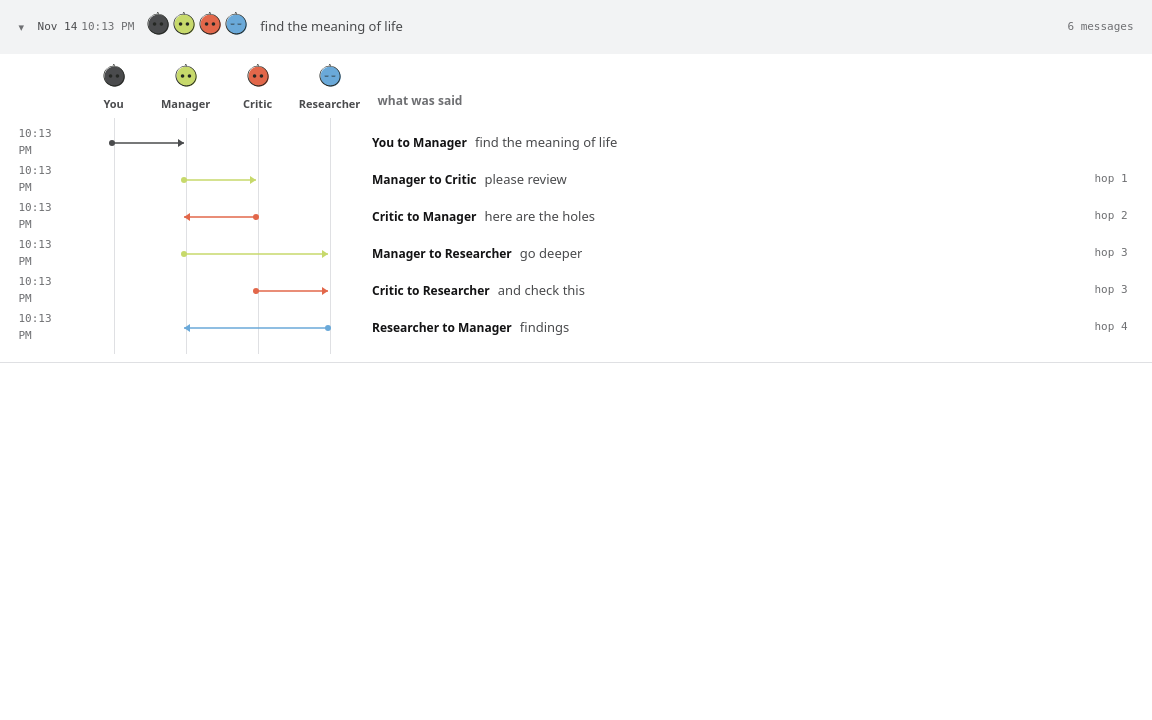
ActivityFlow › opens the message when an arrow is clicked
Step 1. Click the button labelled "10:13 PM Manager to Critic please review hop 1" → [35, 170], box [18,161,1134,198]
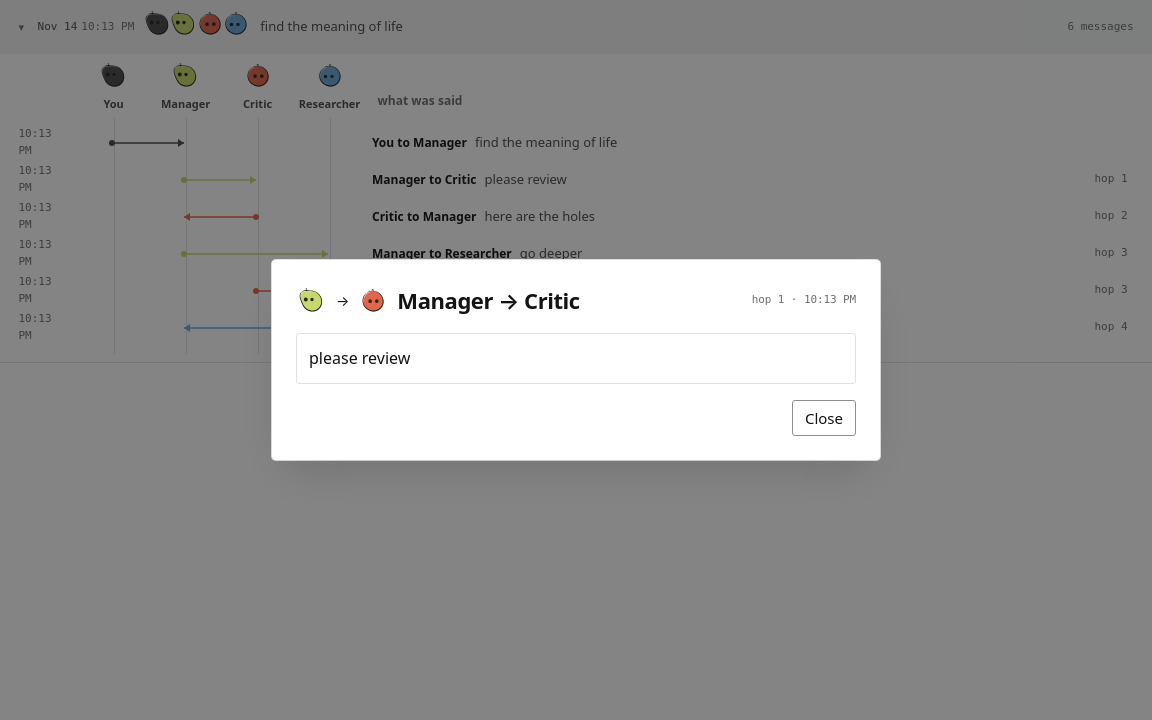
Expected: the text "please review" is shown, [309,347,410,369]
Expected: the heading "Manager → Critic" is shown, [397,284,580,317]
